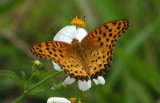Argyreus hyperbius: (27, 15, 131, 79)
butterfly: (29, 17, 133, 81)
